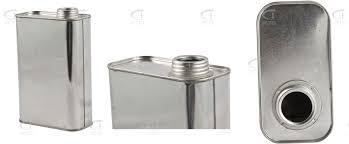Tin: (4, 5, 349, 144)
